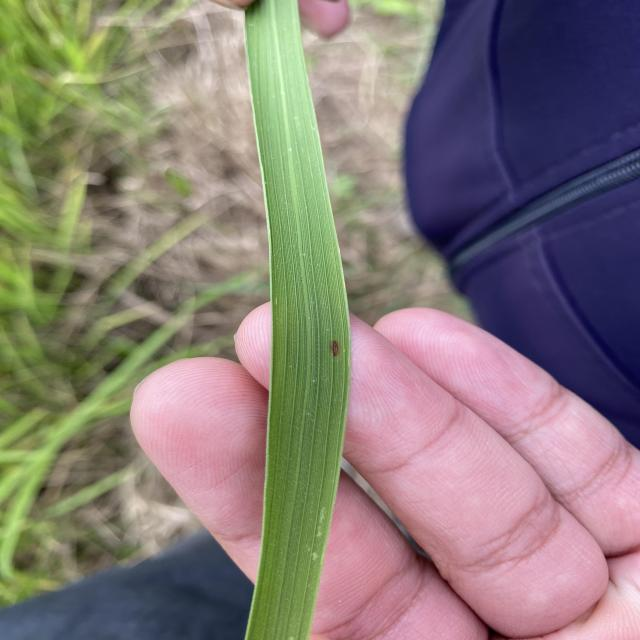Dom nau: (331, 337, 341, 357)
